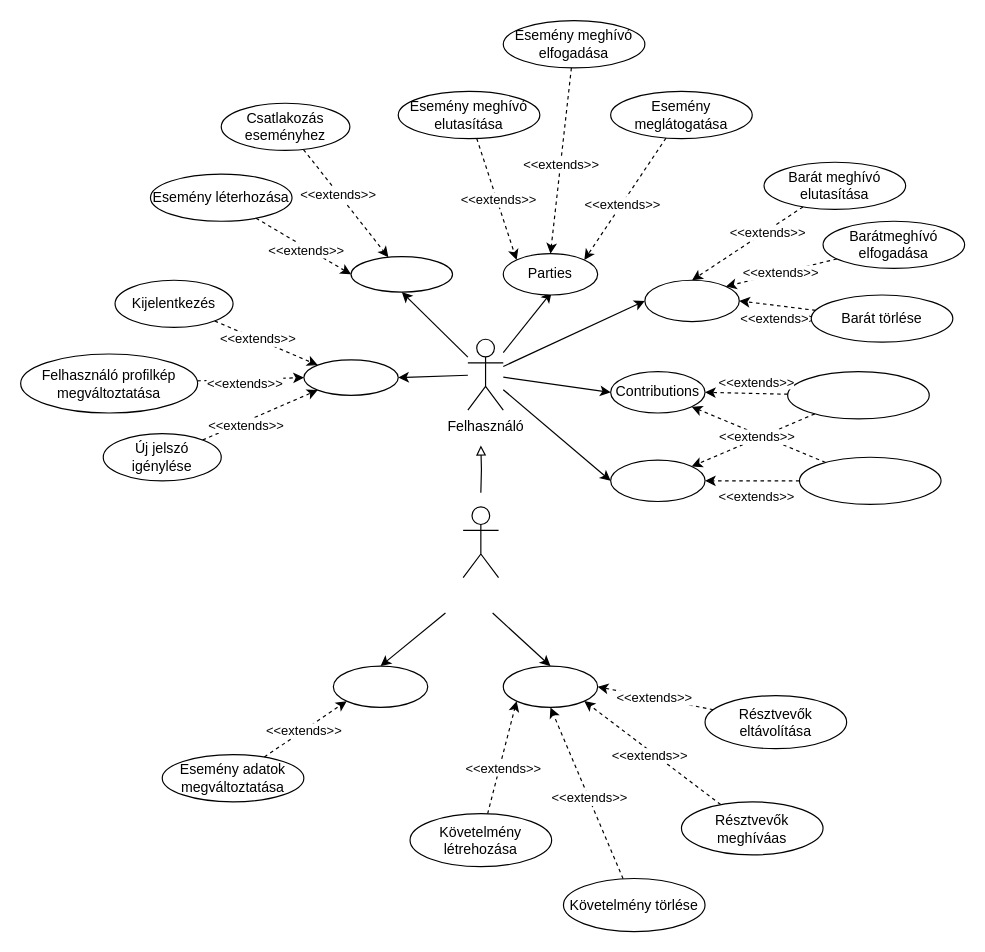
The diagram is 985 pixels wide and 952 high, and some of its shapes have lost their labels. The shapes that lost their labels are listed below. From the top down, each one's centre as x and y in pixels, then its label:
point 401,273: Discover
point 691,300: Friends
point 350,377: Profile
point 857,395: Hozzájárulás hozzádasá
point 657,480: Hall of Fame
point 869,480: Hozzájárulás törlése
point 480,542: Szervező
point 380,686: Party Settings
point 550,686: Manage Party
